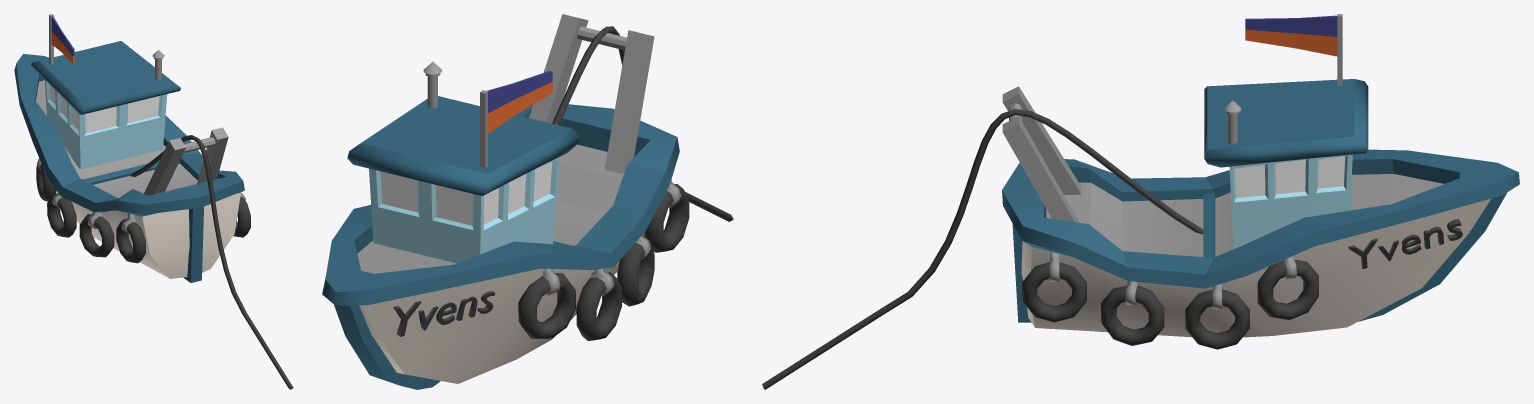
File: M_FishingBoat_Ship_Yvens.fbx
3 views of the same model, side by side, from view 1: azimuth 30°, elevation 25°; view 2: azimuth 150°, elevation 25°; view 3: azimuth 270°, elevation 25° (orthographic). The views are drawn at different scales.
Visible parts, largest first — view 1: M_FishingBoat_Ship_3; view 2: M_FishingBoat_Ship_3; view 3: M_FishingBoat_Ship_3.
Part boxes in pixels (x1=…): M_FishingBoat_Ship_3: x1=14, y1=14, x2=293, y2=389; M_FishingBoat_Ship_3: x1=322, y1=14, x2=733, y2=389; M_FishingBoat_Ship_3: x1=762, y1=14, x2=1519, y2=389.
Size of the model in its own units: 482 by 748 by 1483.
